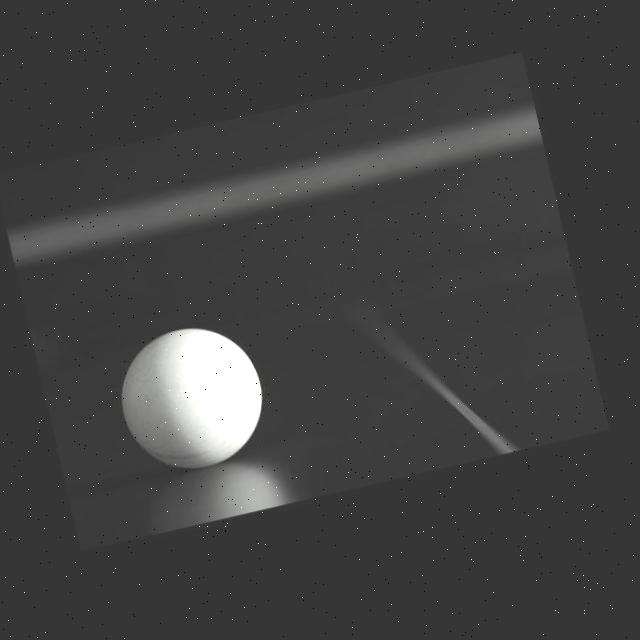ping-pong-ball: (104, 311, 275, 490)
